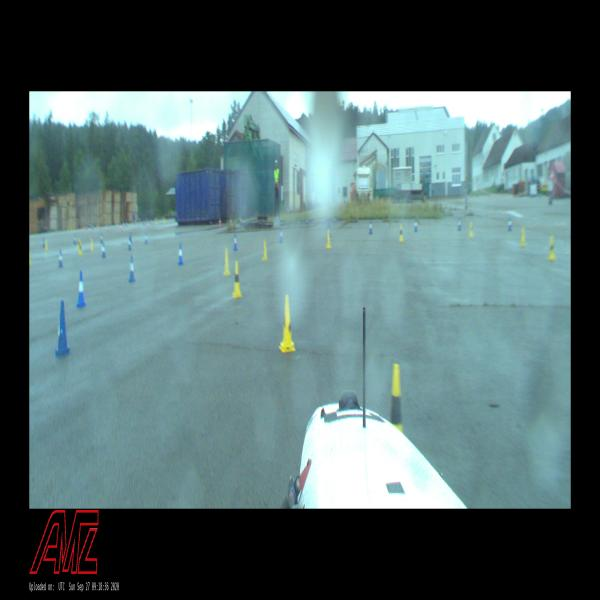blue_cone: (56, 300, 70, 357), (77, 270, 86, 306), (129, 256, 136, 282), (178, 243, 184, 265), (58, 249, 64, 268), (233, 234, 238, 250), (279, 228, 283, 244), (508, 216, 512, 231), (414, 217, 418, 232), (102, 243, 105, 259), (144, 233, 148, 244), (458, 217, 461, 231), (369, 220, 372, 234), (128, 238, 131, 251)
yellow_cone: (278, 295, 296, 352), (389, 364, 403, 435), (232, 261, 242, 297), (548, 236, 556, 260), (224, 248, 231, 275), (262, 239, 268, 260), (520, 227, 526, 247), (326, 230, 331, 249), (468, 222, 473, 237), (399, 225, 403, 242), (79, 242, 82, 255)
